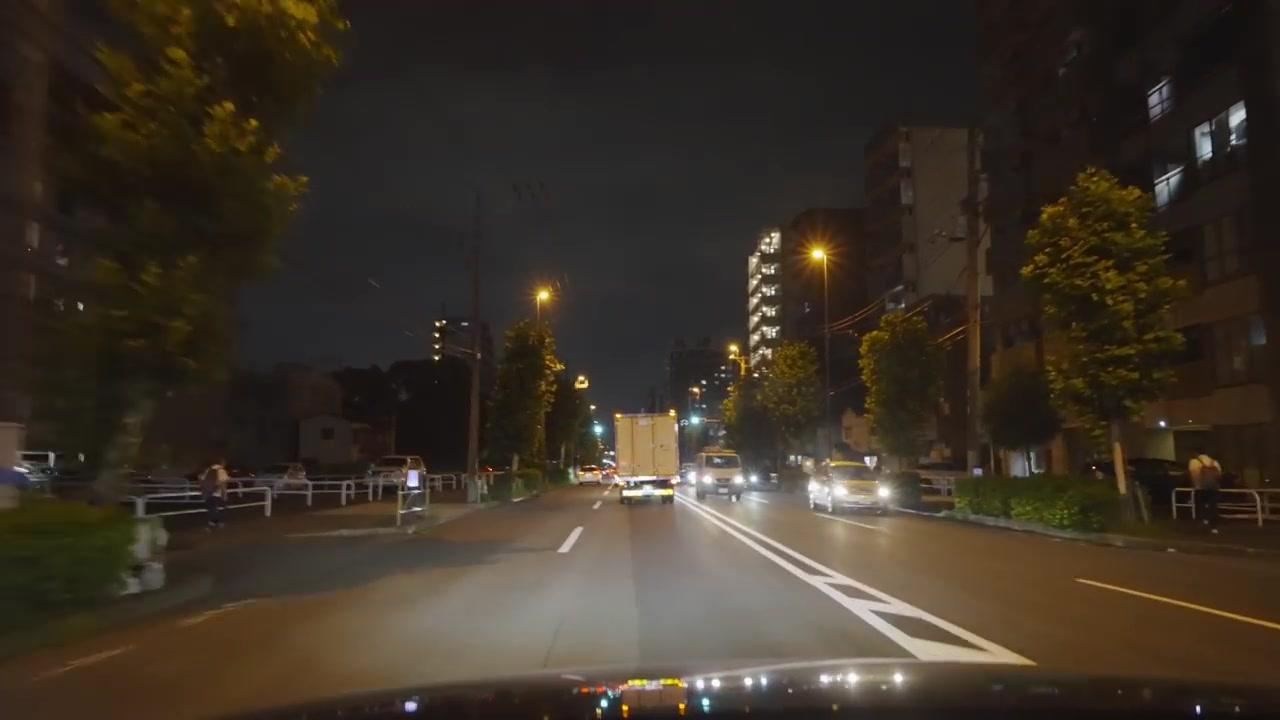car: (808, 462, 887, 516), (365, 454, 429, 499), (254, 463, 314, 510), (694, 449, 746, 502), (619, 476, 674, 507), (0, 464, 52, 492), (578, 467, 601, 483), (676, 468, 695, 482)
person: (1189, 452, 1222, 532), (198, 463, 227, 531)
traffic light: (431, 321, 446, 363)
truck: (613, 413, 678, 506), (695, 449, 746, 502)
